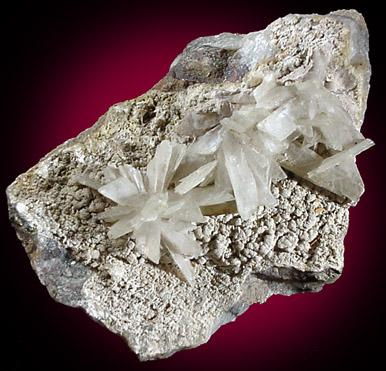gypsum: (74, 49, 374, 284)
